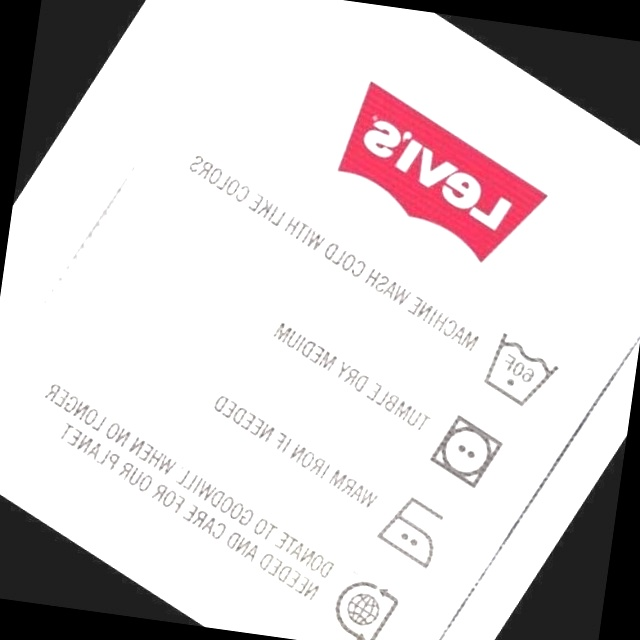30C: (478, 325, 561, 412)
iron_medium: (369, 487, 454, 571)
tumble_dry_medium: (423, 408, 506, 491)
